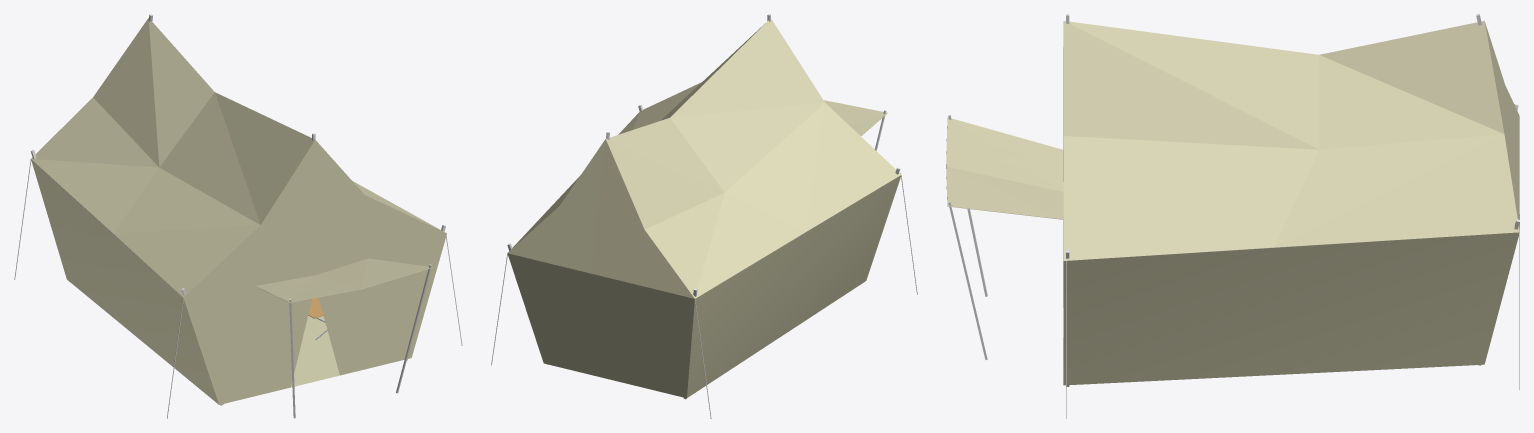
File: sanitätszelt.fbx
3 views of the same model, side by side, from view 1: azimuth 30°, elevation 25°; view 2: azimuth 150°, elevation 25°; view 3: azimuth 270°, elevation 25° (orthographic). The views are drawn at different scales.
Visible parts, largest first — view 1: dach_2, Würfel_10_2, vordach; view 2: dach_2, Würfel_10_2, vordach; view 3: dach_2, Würfel_10_2, vordach.
Part boxes in pixels (x1,y1,x2,y2): dach_2: (31, 18, 446, 297); Würfel_10_2: (31, 159, 446, 404); vordach: (255, 258, 433, 302); dach_2: (508, 18, 901, 298); Würfel_10_2: (507, 120, 901, 398); vordach: (823, 100, 887, 135); dach_2: (1063, 21, 1519, 260); Würfel_10_2: (1063, 214, 1519, 385); vordach: (946, 117, 1063, 219).
Size of the model in its own units: 616 by 495 by 817.
